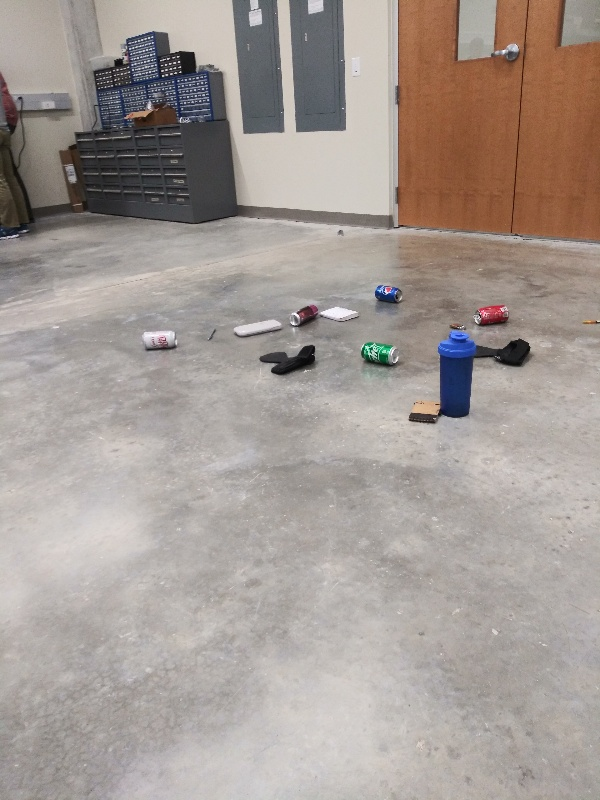can: (358, 339, 402, 366), (139, 325, 179, 351), (286, 302, 324, 328), (471, 304, 512, 328), (371, 281, 408, 306)
